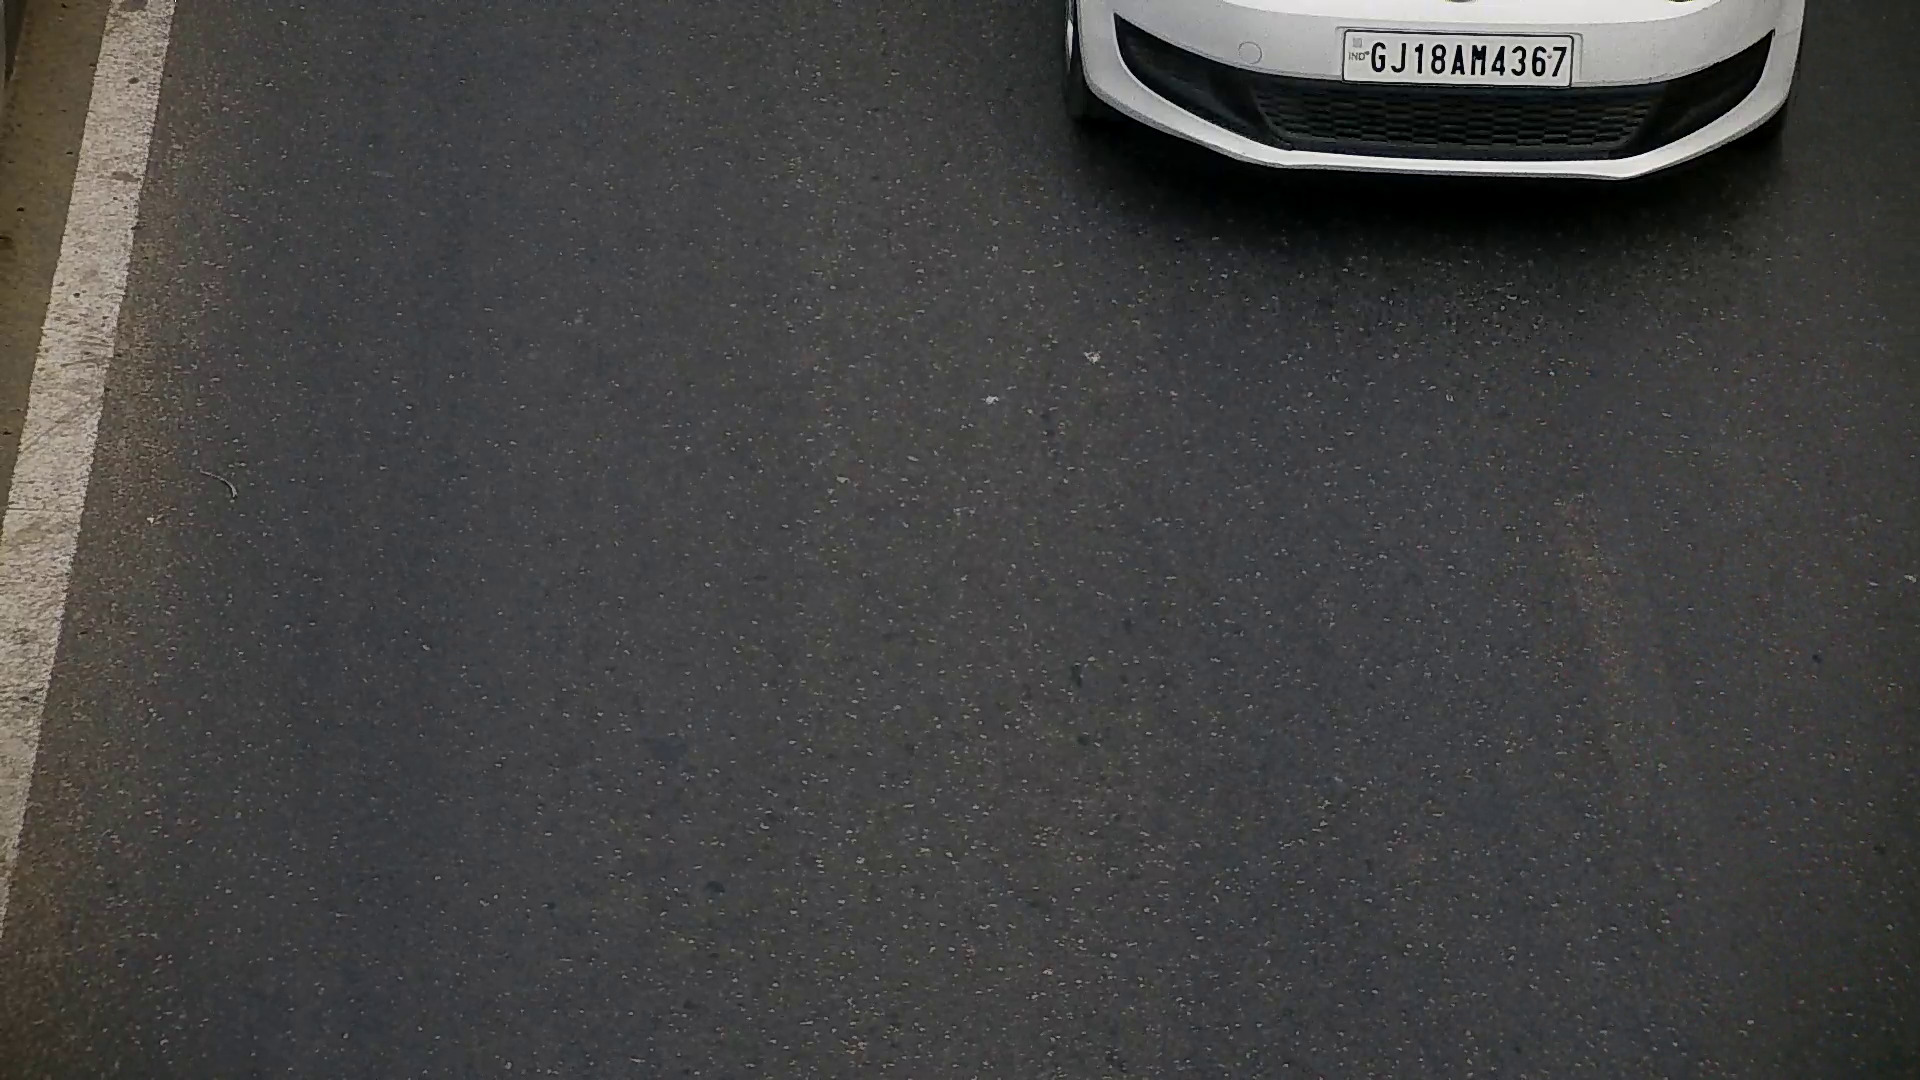numberplate: (1338, 26, 1578, 86)
